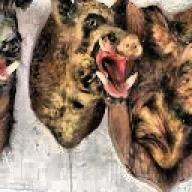boar: (0, 0, 40, 159)
